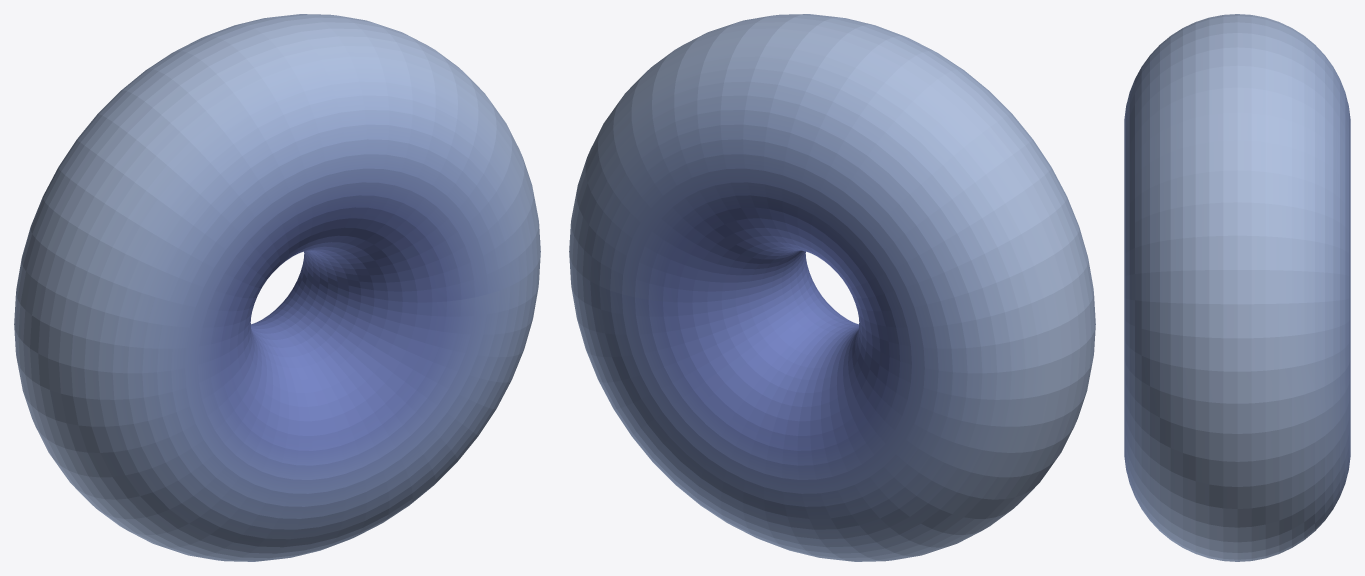
3 renders of one model, left to right at view 1: azimuth 30°, elevation 25°; view 2: azimuth 150°, elevation 25°; view 3: azimuth 270°, elevation 25°, orthographic. The views are drawn at different scales.
Visible parts, largest first — view 1: world; view 2: world; view 3: world.
Boxes of the visible parts, box(x1,y1,x2,y2) form: world: box(14, 14, 540, 561); world: box(569, 14, 1095, 561); world: box(1124, 14, 1350, 561).
Bounding box in the file's own units: 17.07 × 17.03 × 7.05.
